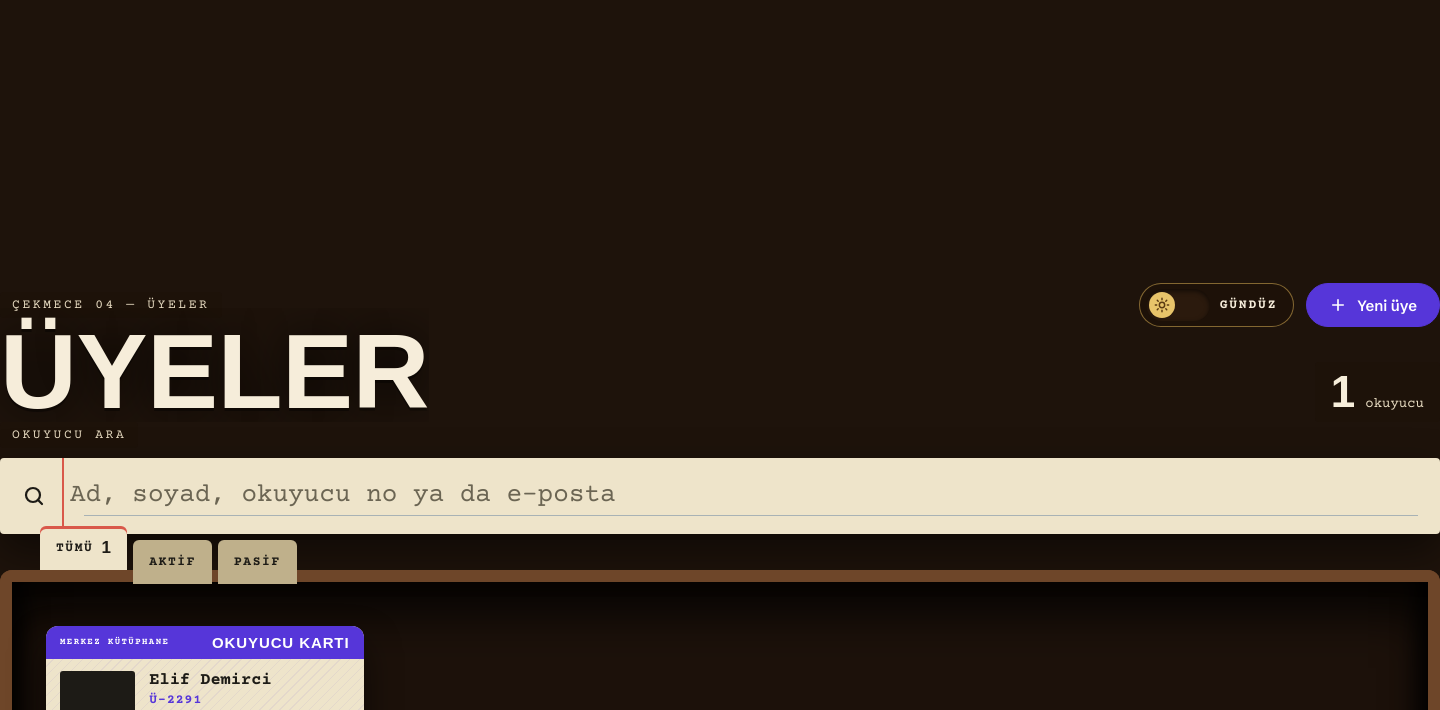
Yeni üye fişi › istemcide doğrular, ilk hatalı alana odaklanır
(page scrolled)
Click the button "Yeni üye" at coordinates (1373, 305), box [1306,283,1439,327]
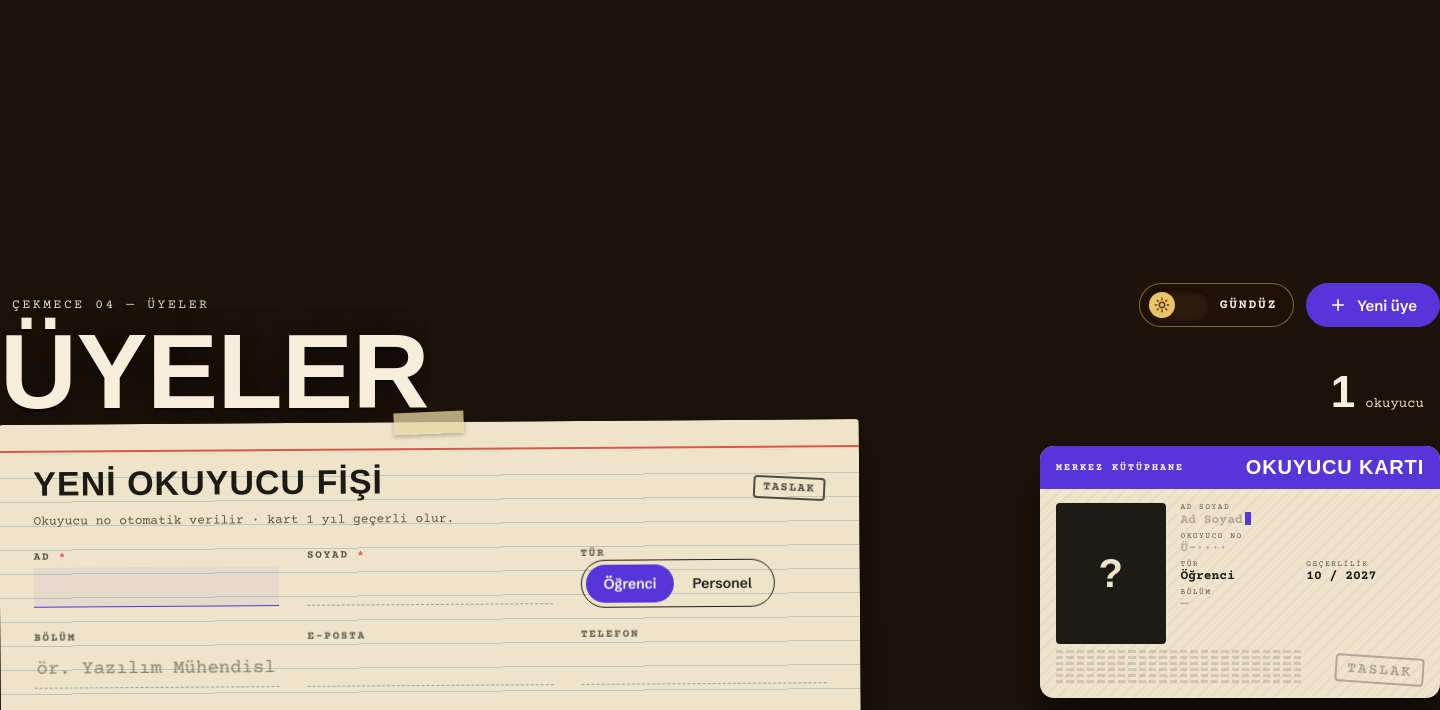
Type "can@" into the field labelled "E-posta" at coordinates (430, 666), box [308,645,553,686]
(page scrolled)
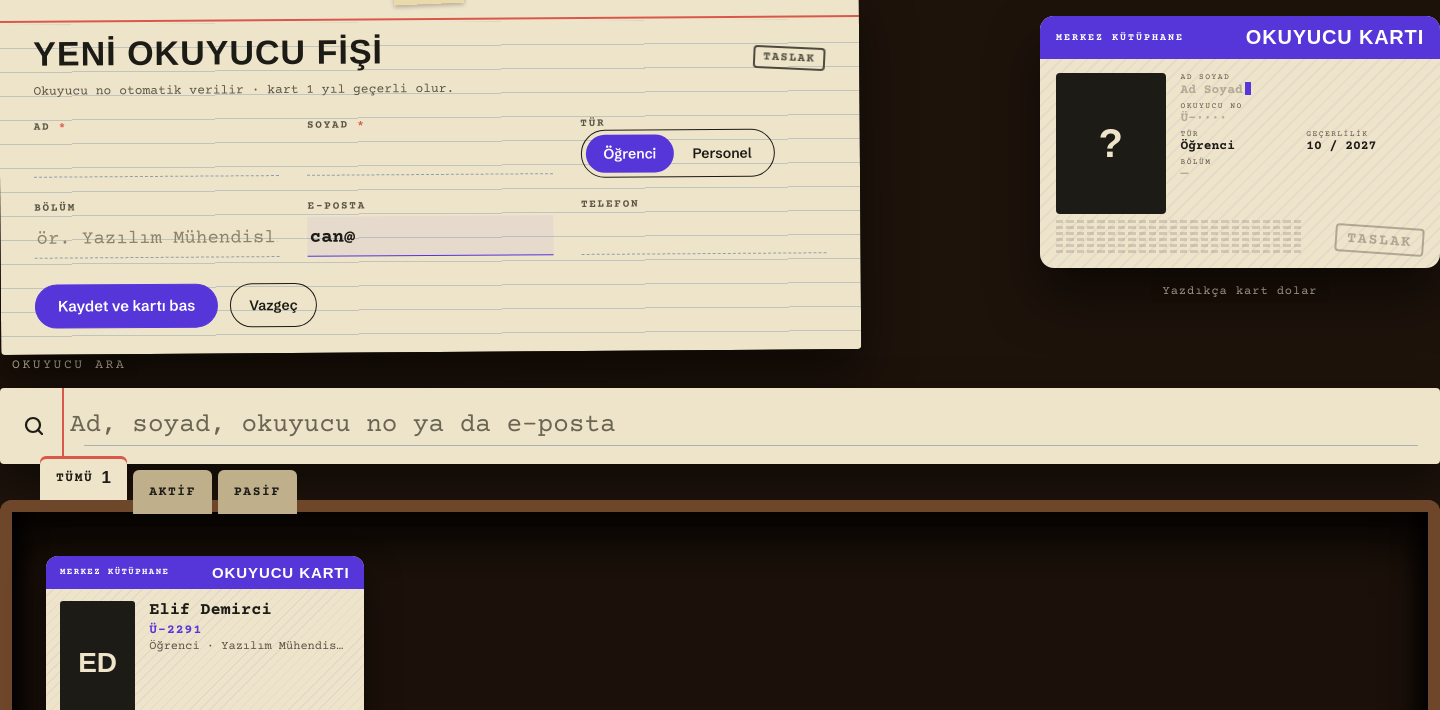
Click the button "Kaydet ve kartı bas" at coordinates (127, 306), box [35,283,218,328]
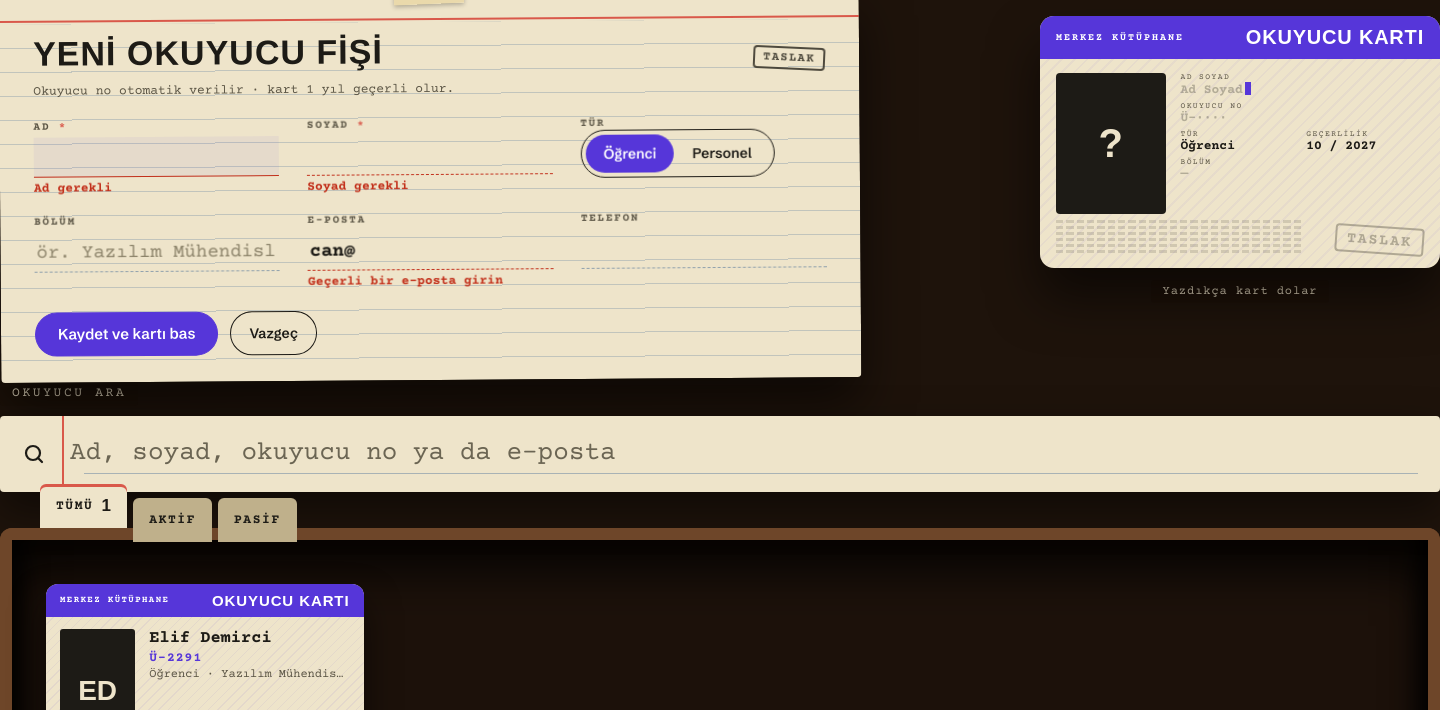
Now the text "Ad gerekli" is shown, box [34,181,112,195]
Now the text "Soyad gerekli" is shown, box [307,179,409,194]
Now the text "Geçerli bir e-posta girin" is shown, box [308,273,503,288]
